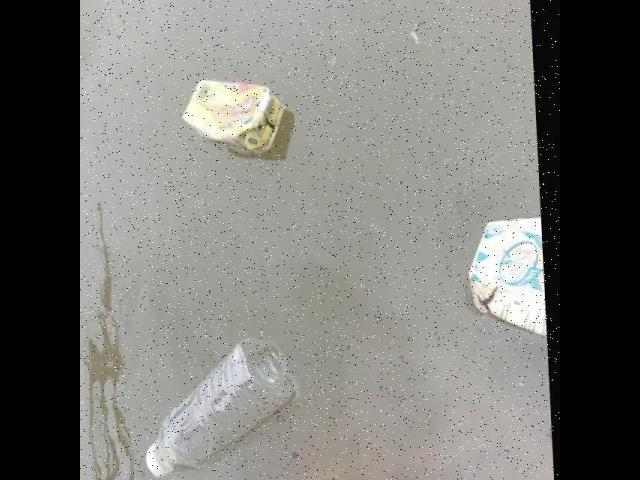Bottle: (142, 333, 296, 480)
Box: (462, 205, 548, 341), (180, 71, 288, 165)
